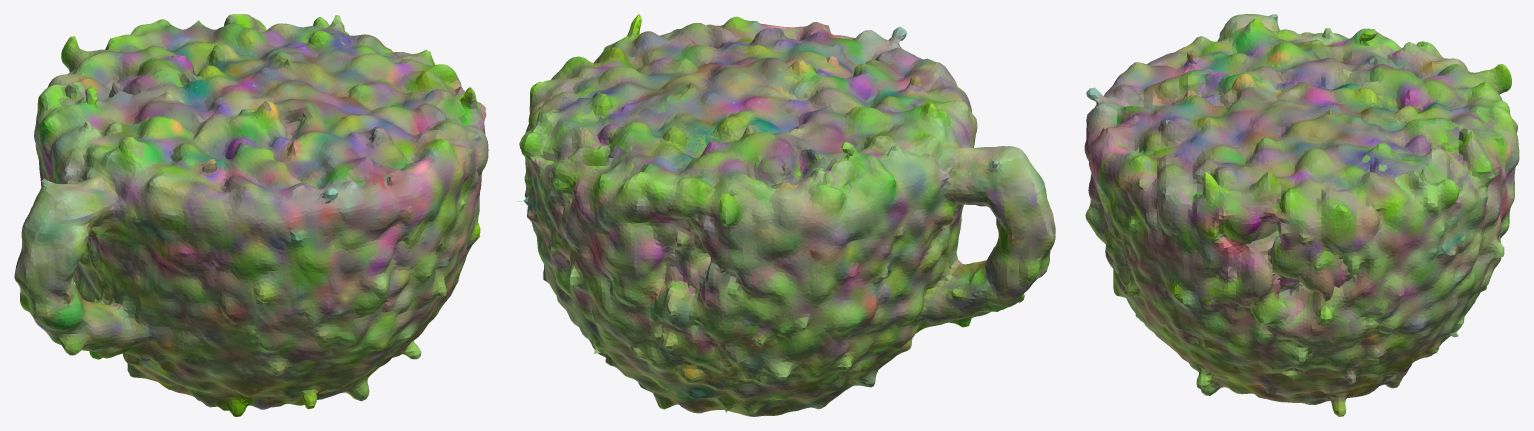
File: forest_cup_sds_a_t_shape.glb
3 renders of one model, left to right at view 1: azimuth 30°, elevation 25°; view 2: azimuth 150°, elevation 25°; view 3: azimuth 270°, elevation 25°, orthographic. The views are drawn at different scales.
Size of the model in its own units: 1.99 by 1.23 by 1.67.
Materials: 1 (1 with a texture image).
